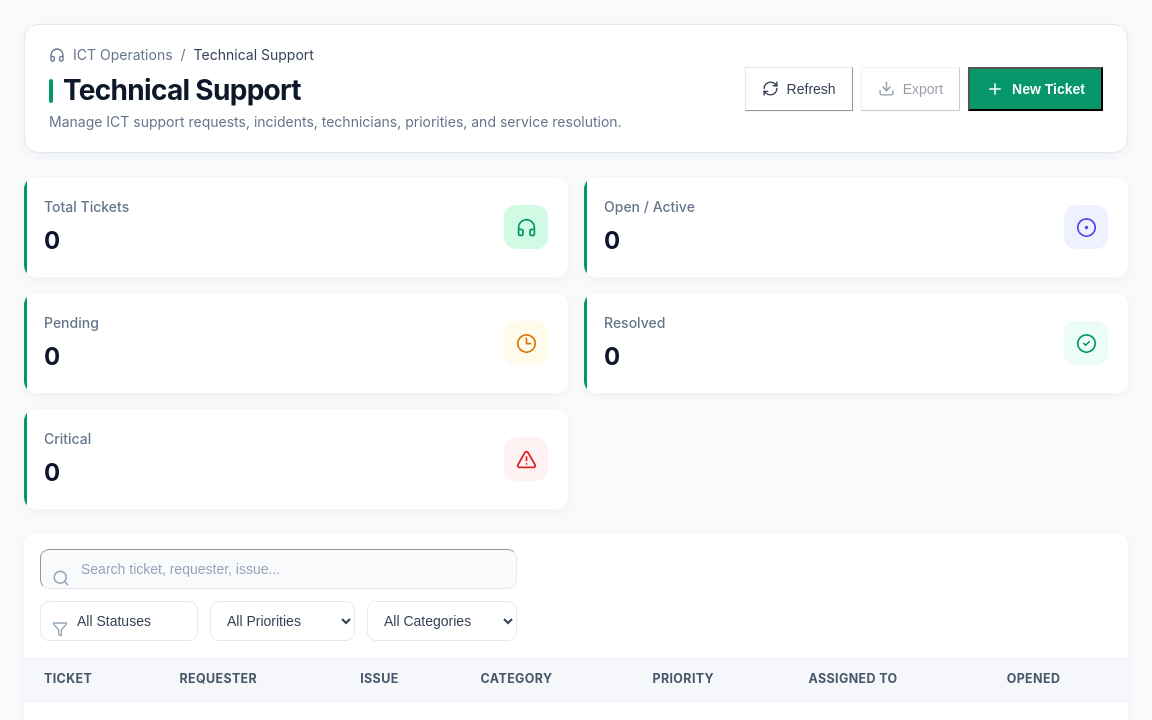
creates a ticket using the supported API fields and category values
Click the button "New Ticket". click: [1036, 88]
box: top-left (968, 66), bottom-right (1103, 110)
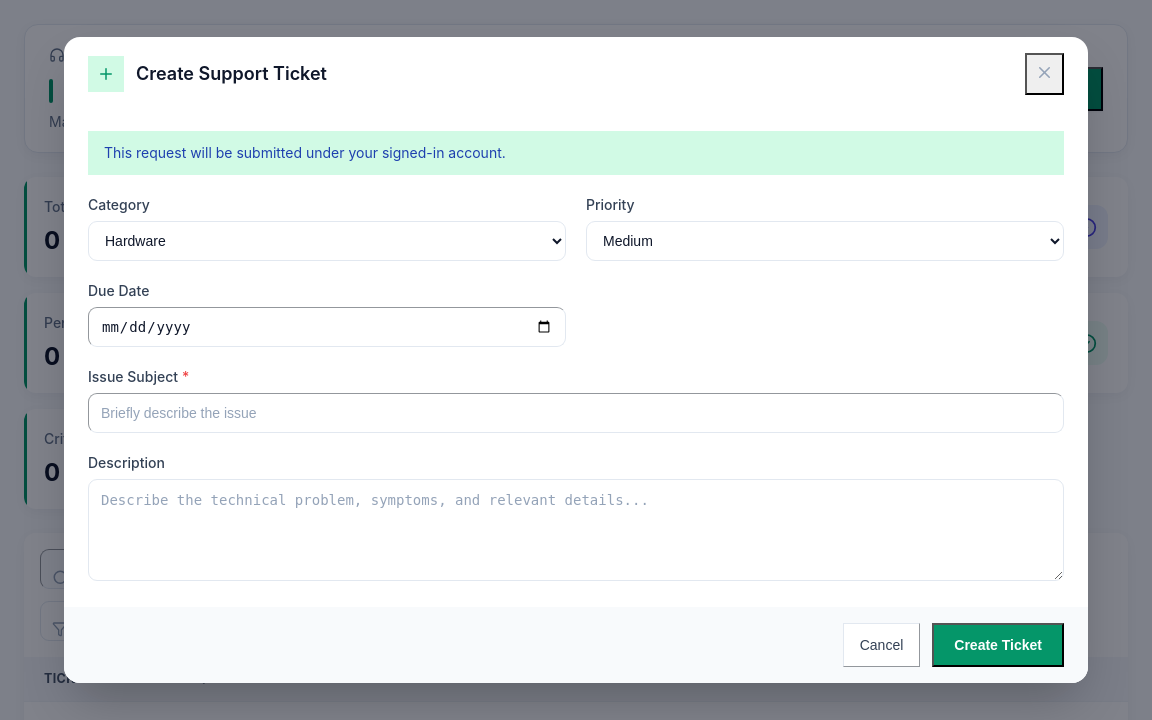
Type "Account access" into the field with placeholder "Briefly describe the issue". click: [576, 413]
box: top-left (88, 393), bottom-right (1064, 433)
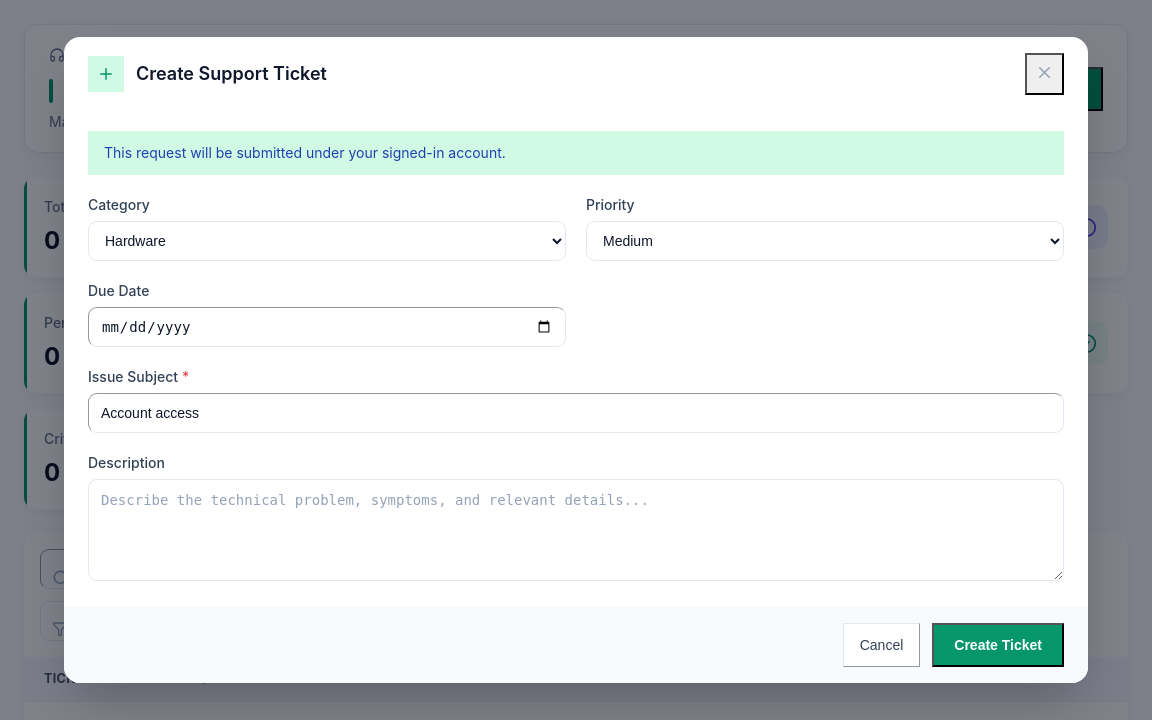
Replace the text in the text box with placeholder "Describe the technical problem" with "Unable to sign in". click: [576, 530]
box: top-left (88, 479), bottom-right (1064, 581)
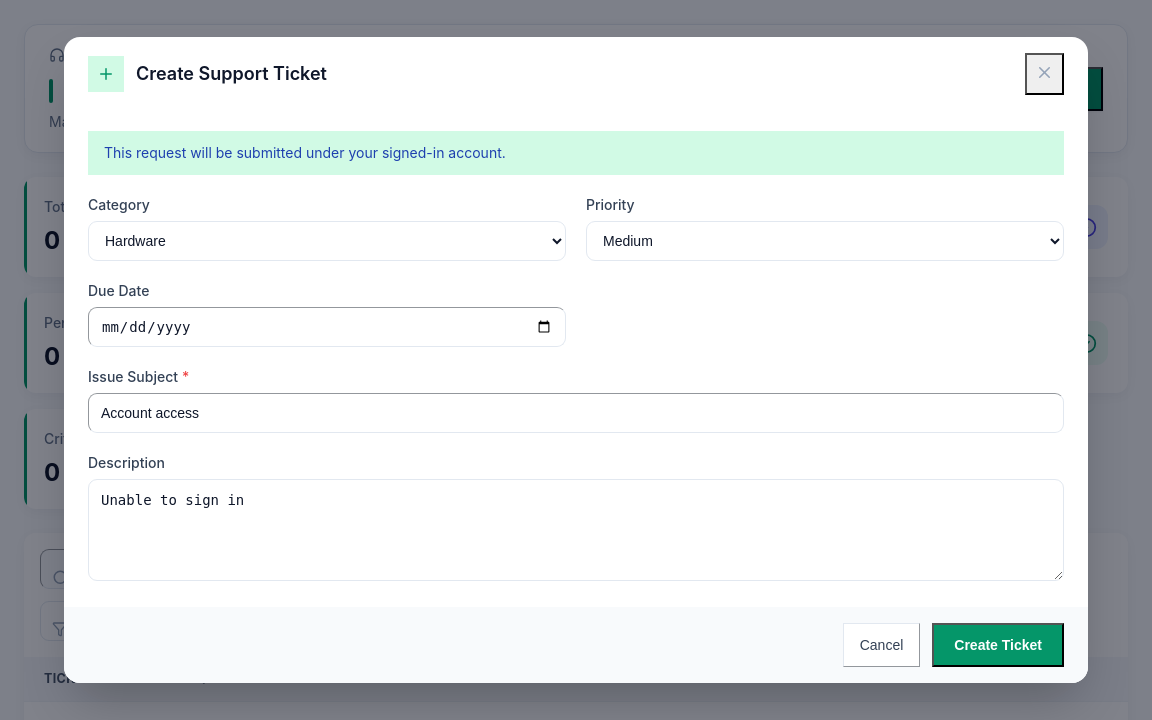
Select "Account Access" in the dropdown labelled "Category". click: [327, 241]
box: top-left (88, 221), bottom-right (566, 261)
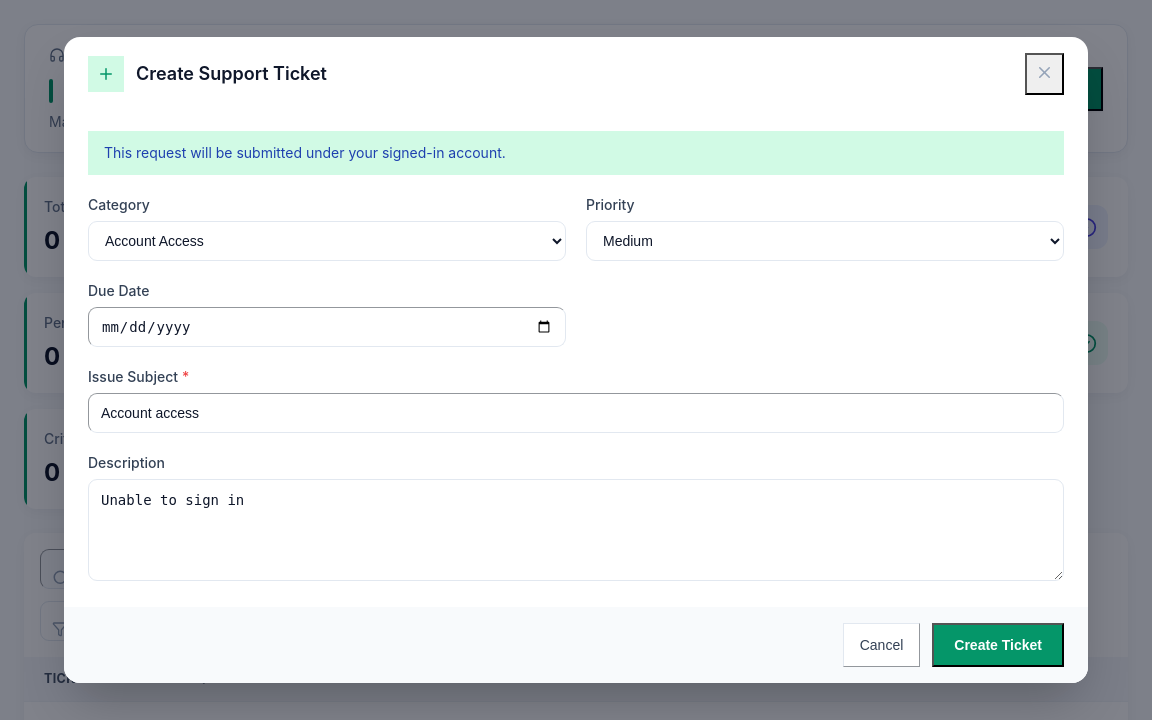
Select "High" in the dropdown labelled "Priority". click: [825, 241]
box: top-left (586, 221), bottom-right (1064, 261)
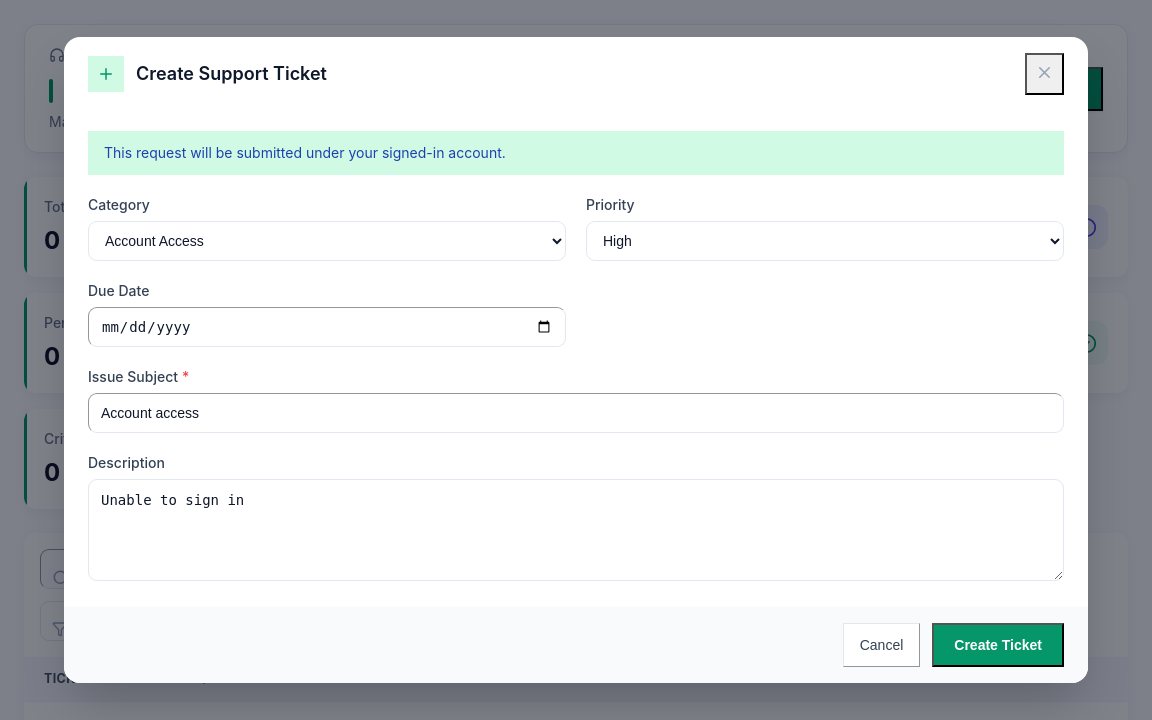
Click the button "Create Ticket". click: [998, 645]
box: top-left (932, 623), bottom-right (1064, 667)
(page scrolled)
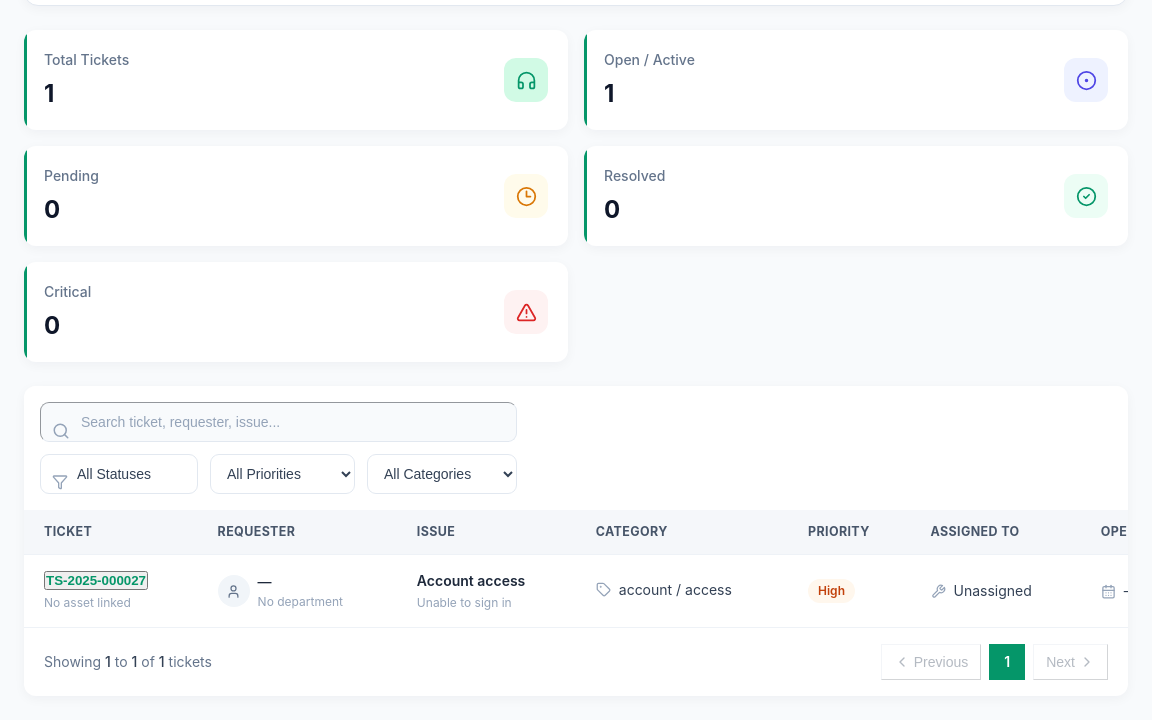
Now the button "TS-2025-000027" is shown, box top-left (44, 571), bottom-right (148, 590)
